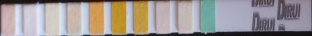color 1: (112, 3, 125, 33), (178, 2, 191, 32), (135, 2, 147, 33), (46, 5, 59, 33), (2, 5, 14, 35), (157, 2, 169, 32), (68, 5, 80, 34), (90, 4, 102, 33), (201, 2, 213, 31), (24, 6, 36, 34)
